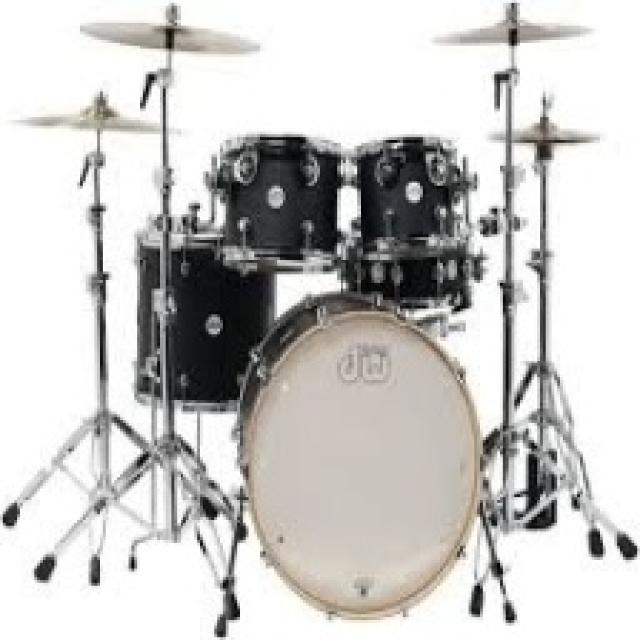drums: (23, 1, 612, 616)
